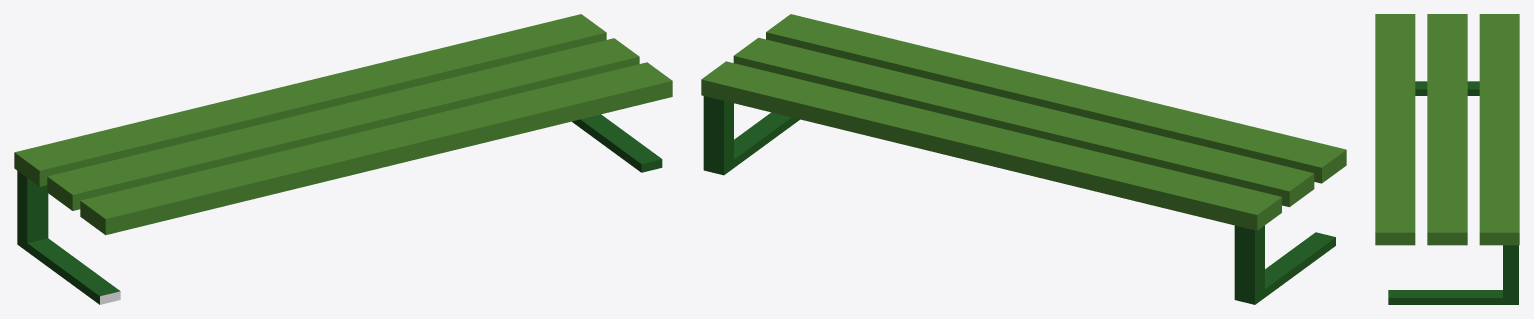
The model's file is ghedocsach.fbx.
The picture shows the model from 3 angles, left to right: view 1: azimuth 30°, elevation 25°; view 2: azimuth 150°, elevation 25°; view 3: azimuth 270°, elevation 25°; orthographic projection. The views are drawn at different scales.
Parts seen in each view (by area): view 1: ghedocsach; view 2: ghedocsach; view 3: ghedocsach.
Boxes of the visible parts, x1,y1,x2,y2 form: ghedocsach: (14,14,672,304); ghedocsach: (701,14,1346,304); ghedocsach: (1375,14,1519,304).
Size of the model in its own units: 347 by 54.04 by 96.63.
